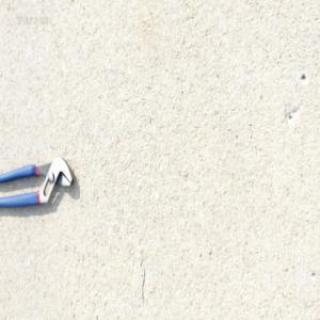Pliertrack_idkeyframe: (0, 152, 74, 209)
